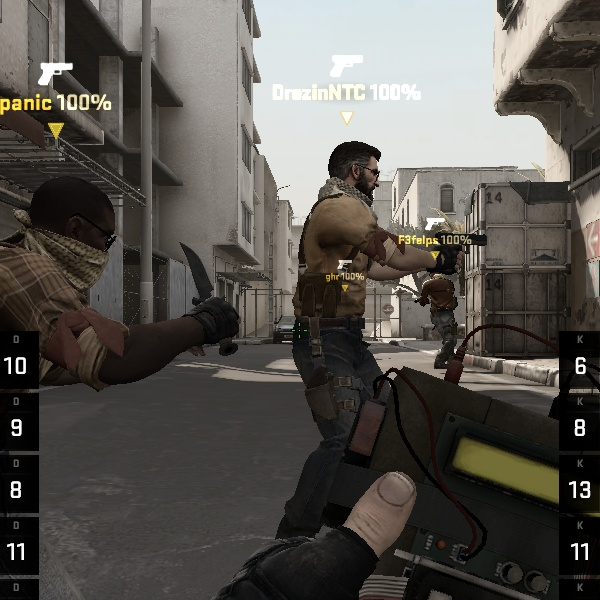t_body: (0, 168, 244, 600), (260, 115, 444, 508)
t_head: (0, 157, 139, 293), (322, 134, 393, 204)
